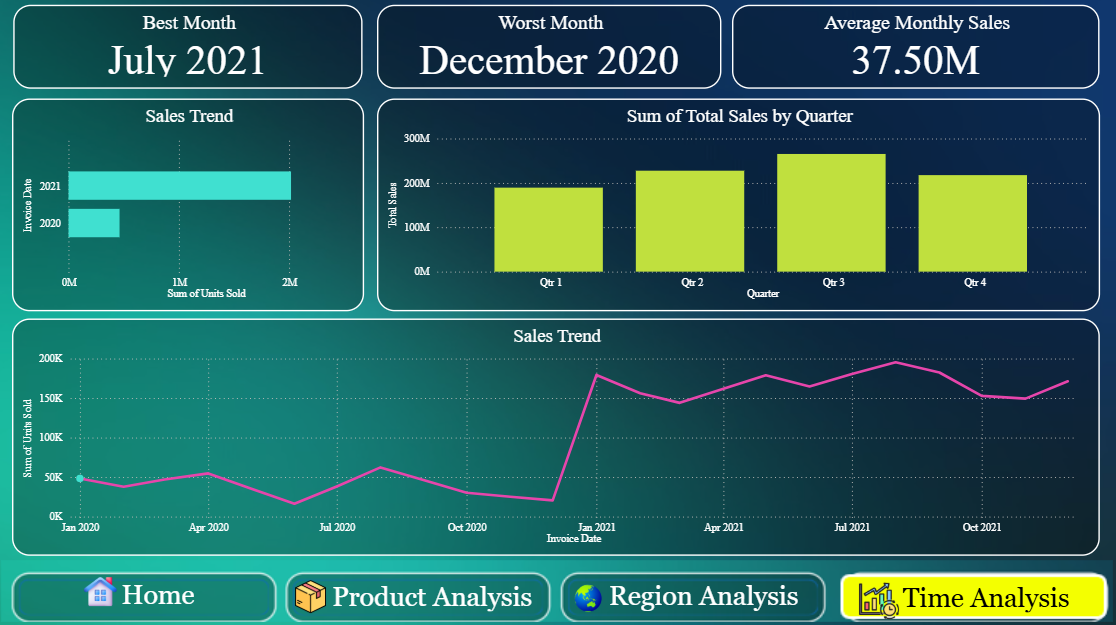

What the dashboard file says about the page in this screenshot:
{"tool":"powerbi","page":{"name":"Time Analysis","canvas":[1280,720],"ordinal":3},"visuals":[{"type":"card","title":"Best Month","fields":{"Values":["Data Sales Adidas.Best Month Name"]},"box":[19.2,9.6,399.3,96.1],"z":0},{"type":"lineChart","title":"Sales Trend","fields":{"Category":["Data Sales Adidas.Invoice Date.Variation.Date Hierarchy.Year"],"Y":["Sum(Data Sales Adidas.Units Sold)"]},"box":[17.1,368.6,1242.9,271.4],"z":1000},{"type":"barChart","title":"Sales Trend","fields":{"Category":["Data Sales Adidas.Invoice Year"],"Y":["Sum(Data Sales Adidas.Units Sold)"]},"box":[16.5,116.6,402.1,242.9],"z":2000},{"type":"card","title":"Worst Month","fields":{"Values":["Data Sales Adidas.Worst Month Name"]},"box":[433.6,9.6,393.8,96.1],"z":3000},{"type":"card","title":"Average Monthly Sales","fields":{"Values":["Data Sales Adidas.Average Monthly Sales"]},"box":[839.8,9.6,419.9,96.1],"z":4000},{"type":"columnChart","fields":{"Category":["Data Sales Adidas.Invoice Month_year.Variation.Date Hierarchy.Quarter"],"Y":["Sum(Data Sales Adidas.Total Sales)"]},"box":[433.6,116.6,826.1,242.9],"z":5000},{"type":"image","box":[0,640,1280,80],"z":6000},{"type":"image","box":[654.3,660,42.9,52.9],"z":7000},{"type":"image","box":[330,662.9,57.1,47.1],"z":8000},{"type":"image","box":[975.7,662.9,64.3,57.1],"z":9000},{"type":"actionButton","box":[964.3,657.1,304.3,60],"z":10000},{"type":"actionButton","box":[638.6,655.7,310,60],"z":11000},{"type":"image","box":[652.9,660,45.7,57.1],"z":12000},{"type":"actionButton","box":[330,652.9,298.6,67.1],"z":13000},{"type":"image","box":[85.7,657.1,64.3,47.1],"z":14000},{"type":"actionButton","box":[20,654.3,300,58.6],"z":15000}]}

Visuals, with their boxes in screenshot pixels (x1, y1, x2, y2), scaled from the page's 1280x720 canvas onto the 1116x625 screenshot:
"Best Month" card: bbox(17, 8, 365, 92)
"Sales Trend" lineChart: bbox(15, 320, 1099, 556)
"Sales Trend" barChart: bbox(14, 101, 365, 312)
"Worst Month" card: bbox(378, 8, 721, 92)
"Average Monthly Sales" card: bbox(732, 8, 1098, 92)
columnChart - Data Sales Adidas.Invoice Month_year.Variation.Date Hierarchy.Quarter x Sum(Data Sales Adidas.Total Sales): bbox(378, 101, 1098, 312)
image: bbox(0, 556, 1115, 624)
image: bbox(570, 573, 608, 619)
image: bbox(288, 575, 338, 616)
image: bbox(851, 575, 907, 624)
actionButton: bbox(841, 570, 1106, 622)
actionButton: bbox(557, 569, 827, 621)
image: bbox(569, 573, 609, 622)
actionButton: bbox(288, 567, 548, 624)
image: bbox(75, 570, 131, 611)
actionButton: bbox(17, 568, 279, 619)
